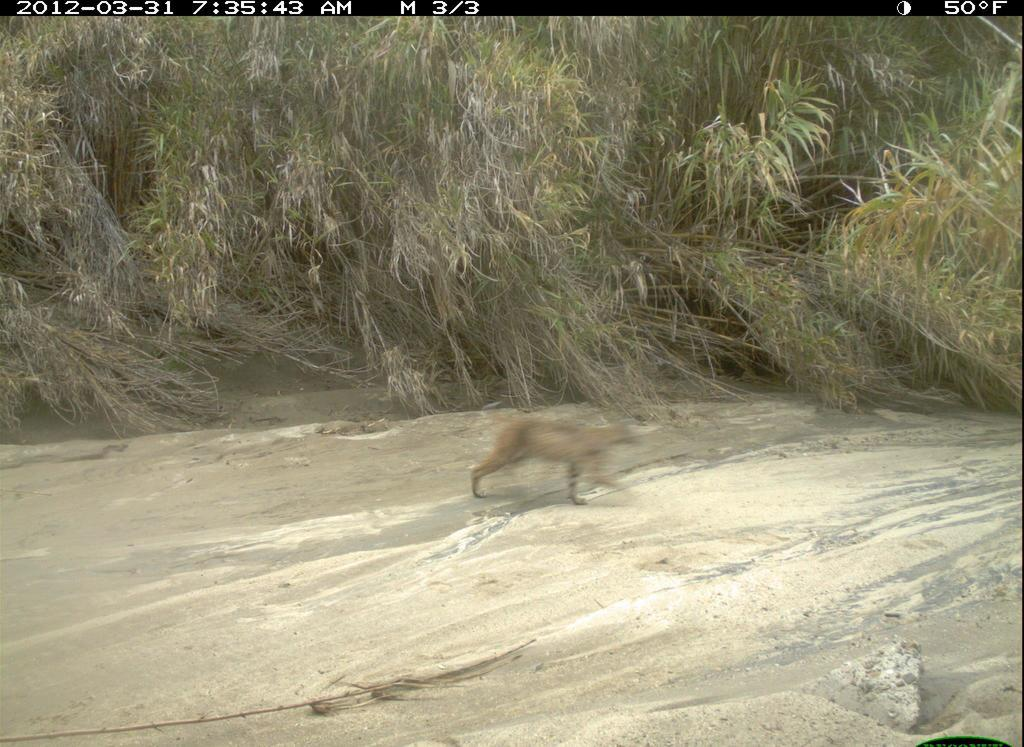bobcat: (449, 395, 656, 520)
